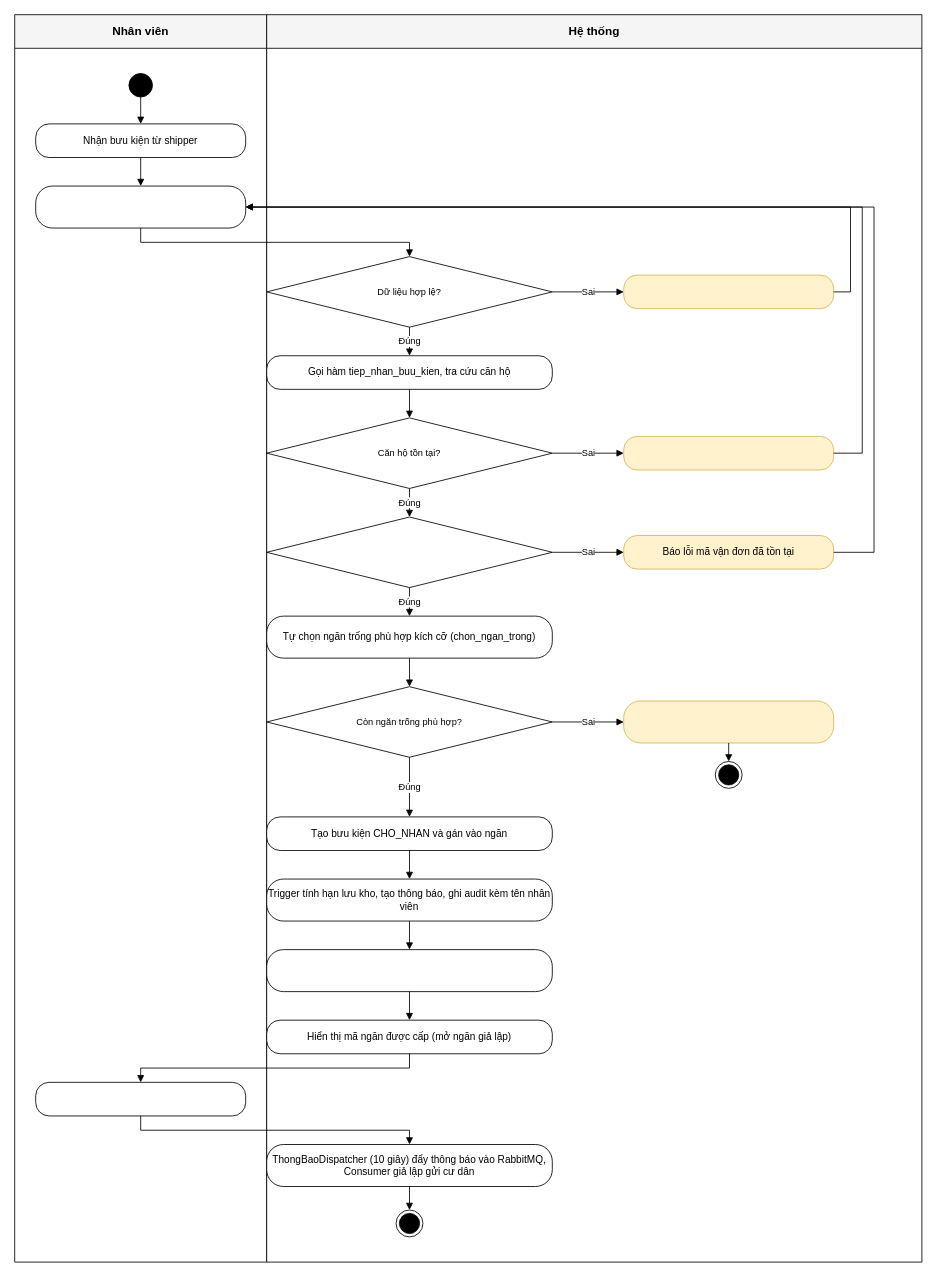
The diagram is 937 pixels wide and 1277 high, and some of its shapes have lost their labels. Each missing label, with the box of its shape:
Báo lỗi hết ngăn, không tạo bưu kiện: (623, 700, 834, 743)
Báo lỗi không tìm thấy căn hộ: (623, 436, 834, 470)
Báo lỗi thiếu hoặc sai dữ liệu: (623, 274, 834, 309)
Gọi sinh_ma_nhan: lưu bản băm SHA-256, không trả mã cho nhân viên: (266, 949, 552, 992)
Mã vận đơn chưa tồn tại?: (266, 516, 552, 588)
Nhập mã vận đơn, số căn hộ, kích cỡ S/M/L, đơn vị vận chuyển: (35, 185, 246, 228)
Đặt bưu kiện vào ngăn và đóng cửa: (35, 1082, 246, 1116)
